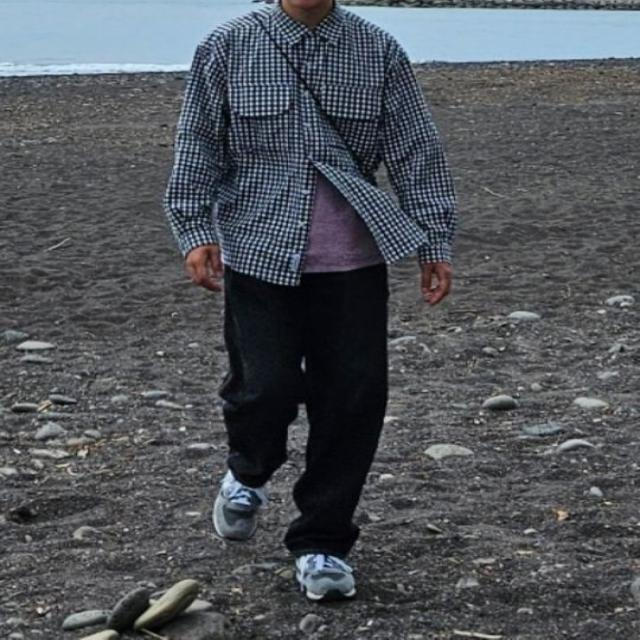denimpants: (212, 249, 390, 560)
shirt: (169, 2, 456, 278)
